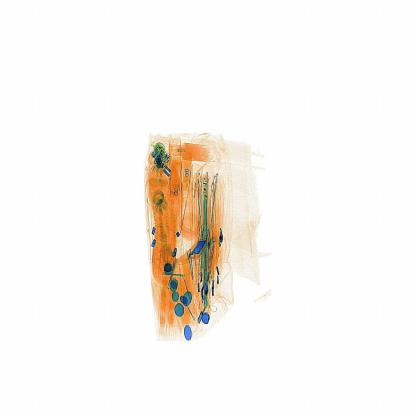pliers: (174, 229, 214, 270)
